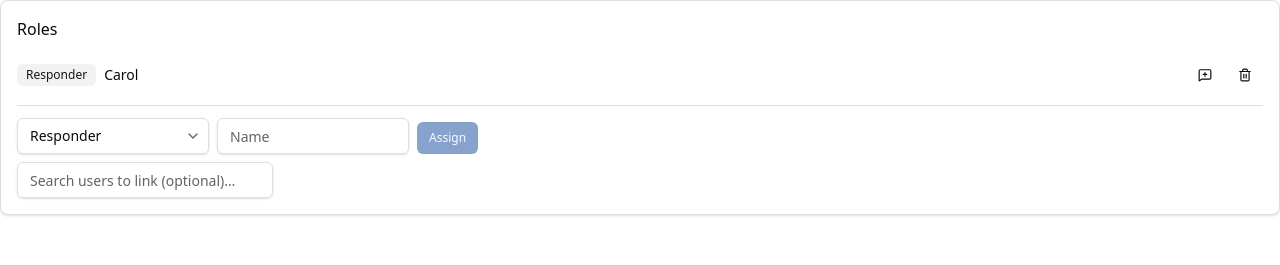
it: RolesPanel › shows the server error message when invite-to-slack fails
Expected: the text "Carol" is shown, [104,65,138,85]
Click the button named "Add Responder to Slack channel". click: (1205, 75)
box: [1187,57,1223,93]
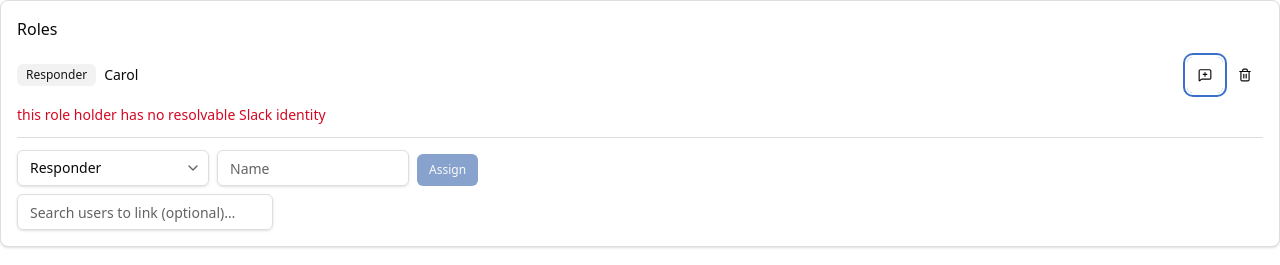
Result: the text "this role holder has no resolvable Slack identity" is shown at [17,105,326,124]
